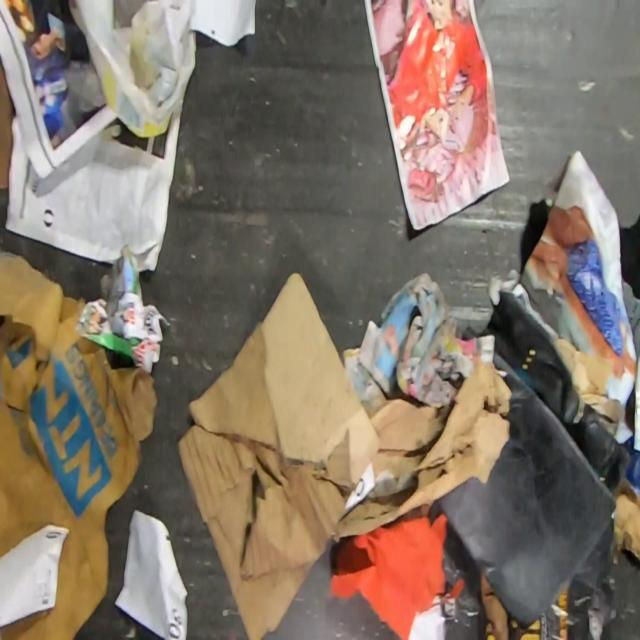cardboard: (176, 273, 512, 639), (0, 251, 157, 639), (610, 478, 640, 563), (0, 57, 15, 189)
soft_plastic: (71, 0, 197, 141)
